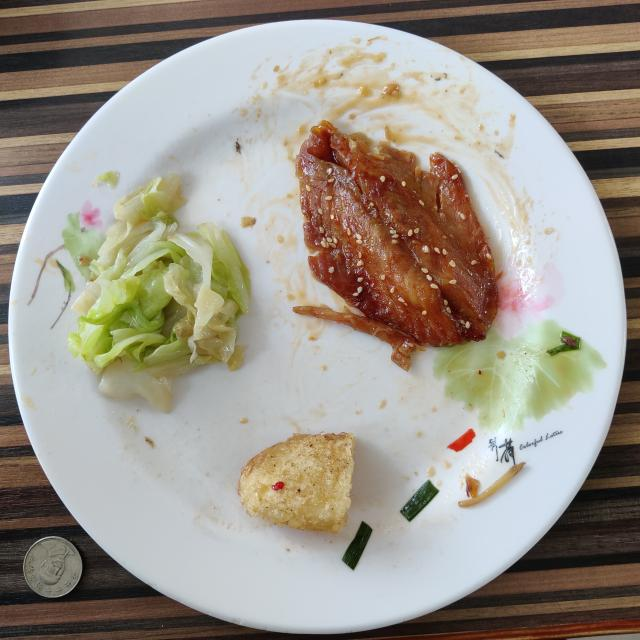Kabayaki sea bream fillet: (292, 121, 498, 370)
cabbage: (68, 175, 250, 412)
coin: (24, 536, 82, 598)
fried potato: (238, 432, 355, 534)
